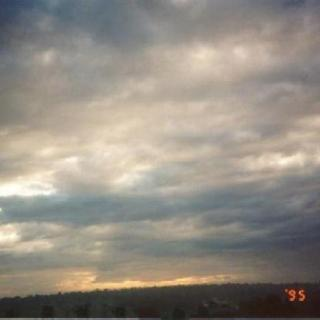Stratocumulus: (0, 0, 320, 282)
